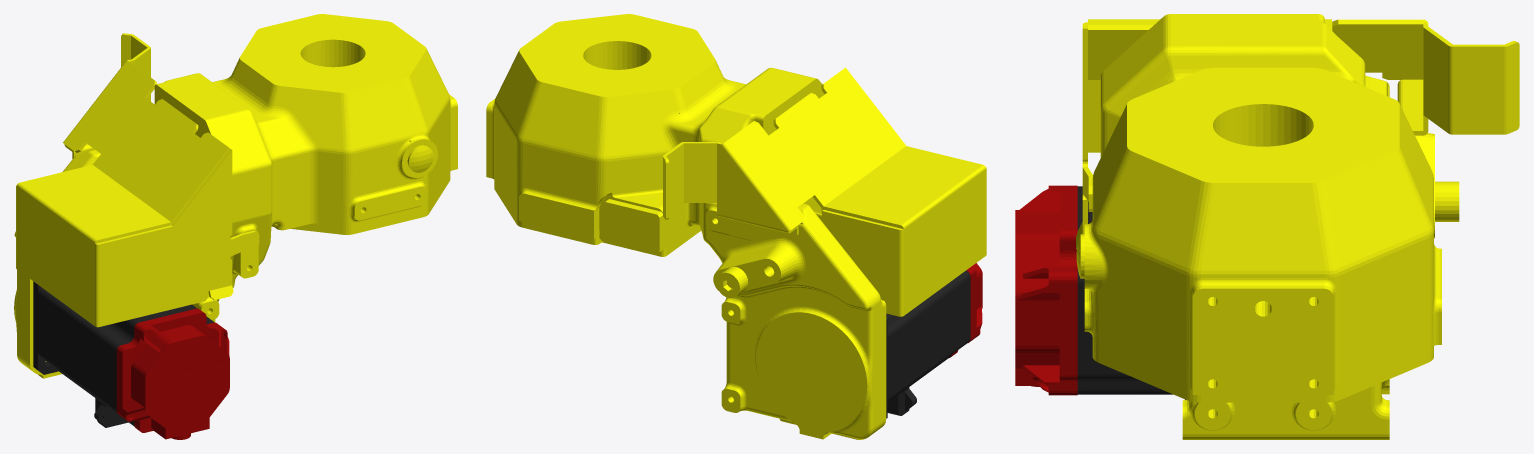
3 views of the same model, side by side, from view 1: azimuth 30°, elevation 25°; view 2: azimuth 150°, elevation 25°; view 3: azimuth 270°, elevation 25° (orthographic). The views are drawn at different scales.
Visible parts, largest first — view 1: node; view 2: node; view 3: node.
Part boxes in pixels (bbox=[...]): node: bbox=[14, 14, 457, 439]; node: bbox=[486, 14, 986, 439]; node: bbox=[1015, 14, 1519, 439].
Size of the model in its own units: 352 by 250 by 250.
